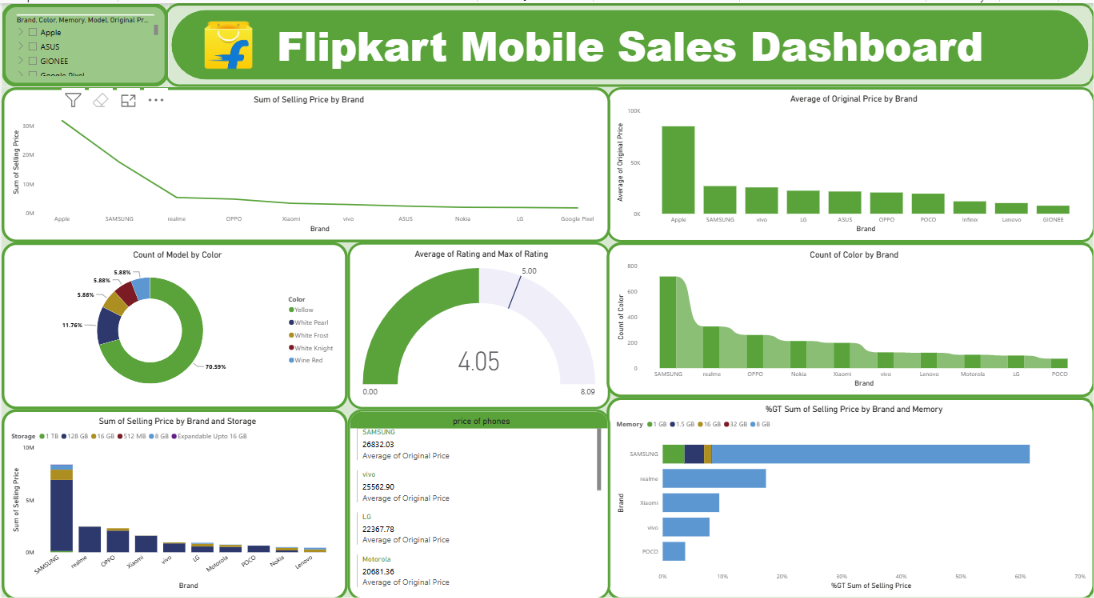

The page's visual inventory and layout, read from the dashboard file:
{"tool":"powerbi","page":{"name":"dash board","canvas":[2200,1200],"ordinal":1},"visuals":[{"type":"clusteredColumnChart","fields":{"Category":["Flipkart_Mobiles.Brand"],"Y":["Avg(Flipkart_Mobiles.Original Price)"]},"box":[1216,168,984,312],"z":0},{"type":"lineChart","fields":{"Category":["Flipkart_Mobiles.Brand"],"Y":["Sum(Flipkart_Mobiles.Selling Price)"]},"box":[0,168,1224,312],"z":1000},{"type":"columnChart","fields":{"Category":["Flipkart_Mobiles.Brand"],"Series":["Flipkart_Mobiles.Storage"],"Y":["Sum(Flipkart_Mobiles.Selling Price)"]},"box":[0,816,696,384],"z":2000},{"type":"donutChart","fields":{"Category":["Flipkart_Mobiles.Color"],"Y":["CountNonNull(Flipkart_Mobiles.Model)"]},"box":[0,480,696,336],"z":3000},{"type":"gauge","fields":{"TargetValue":["Max(Flipkart_Mobiles.Rating)1"],"Y":["Avg(Flipkart_Mobiles.Rating)"]},"box":[696,480,528,336],"z":4000},{"type":"barChart","fields":{"Category":["Flipkart_Mobiles.Brand"],"Series":["Flipkart_Mobiles.Memory"],"Y":["Sum(Flipkart_Mobiles.Selling Price)"]},"box":[1216,792,984,408],"z":5000},{"type":"ribbonChart","fields":{"Category":["Flipkart_Mobiles.Brand"],"Y":["CountNonNull(Flipkart_Mobiles.Color)"]},"box":[1216,480,984,312],"z":6000},{"type":"multiRowCard","title":"price of phones","fields":{"Values":["Avg(Flipkart_Mobiles.Original Price)","Flipkart_Mobiles.Brand"]},"box":[696,816,528,384],"z":7000},{"type":"slicer","fields":{"Values":["Flipkart_Mobiles.Brand","Flipkart_Mobiles.Color","Flipkart_Mobiles.Memory","Flipkart_Mobiles.Model","Flipkart_Mobiles.Original Price","Flipkart_Mobiles.Rating","Flipkart_Mobiles.Selling Price","Flipkart_Mobiles.Storage"]},"box":[0,0,336,168],"z":8000},{"type":"shape","box":[328,0,1872,168],"z":9000},{"type":"image","box":[408,24,96,120],"z":10000}]}

Visuals, with their boxes in screenshot pixels (x1, y1, x2, y2):
clusteredColumnChart - Flipkart_Mobiles.Brand x Avg(Flipkart_Mobiles.Original Price): [599, 85, 1082, 238]
lineChart - Flipkart_Mobiles.Brand x Sum(Flipkart_Mobiles.Selling Price): [3, 85, 603, 238]
columnChart - Flipkart_Mobiles.Brand x Flipkart_Mobiles.Storage: [3, 403, 344, 591]
donutChart - Flipkart_Mobiles.Color x CountNonNull(Flipkart_Mobiles.Model): [3, 238, 344, 403]
gauge - Max(Flipkart_Mobiles.Rating)1 x Avg(Flipkart_Mobiles.Rating): [344, 238, 603, 403]
barChart - Flipkart_Mobiles.Brand x Flipkart_Mobiles.Memory: [599, 391, 1082, 591]
ribbonChart - Flipkart_Mobiles.Brand x CountNonNull(Flipkart_Mobiles.Color): [599, 238, 1082, 391]
"price of phones" multiRowCard: [344, 403, 603, 591]
slicer - Flipkart_Mobiles.Brand x Flipkart_Mobiles.Color: [3, 3, 168, 85]
shape: [164, 3, 1082, 85]
image: [203, 15, 250, 73]
